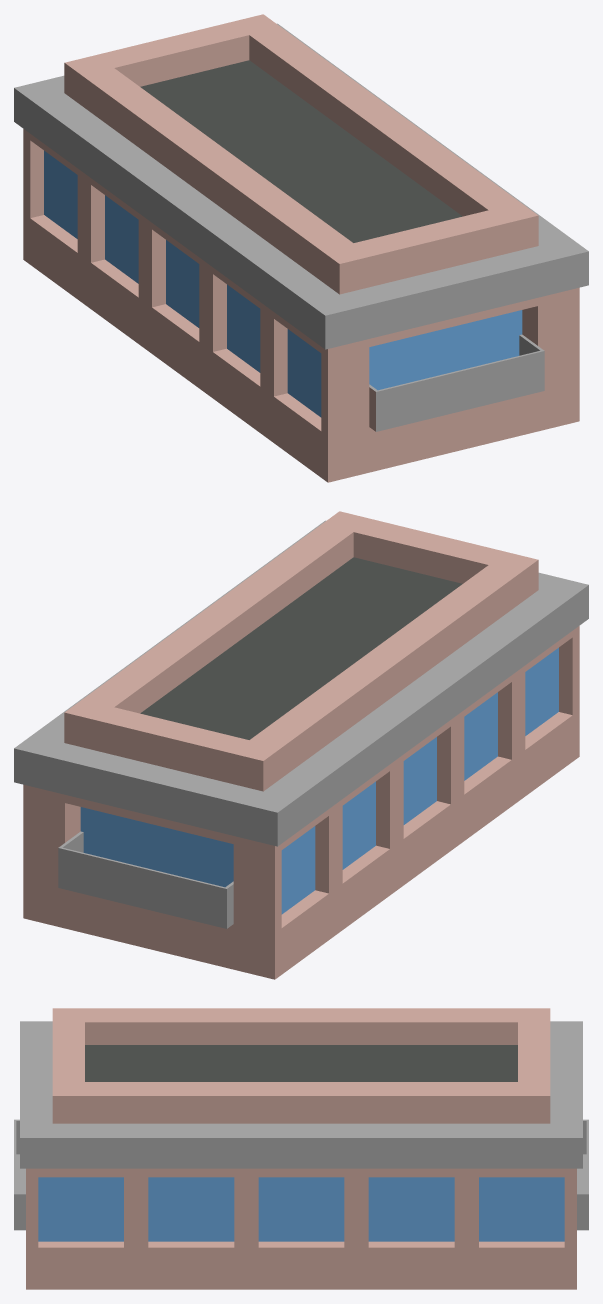
The model's file is building_1x2_1_r.glb.
The picture shows the model from 3 angles, top to bottom: view 1: azimuth 30°, elevation 25°; view 2: azimuth 150°, elevation 25°; view 3: azimuth 270°, elevation 25°; orthographic projection. The views are drawn at different scales.
Visible parts, largest first — view 1: Cube.001; view 2: Cube.001; view 3: Cube.001.
Boxes of the visible parts, x1=… form: Cube.001: x1=14, y1=14, x2=588, y2=482; Cube.001: x1=14, y1=511, x2=588, y2=979; Cube.001: x1=14, y1=1008, x2=588, y2=1289.
Size of the model in its own units: 1.86 by 1.35 by 3.87.
